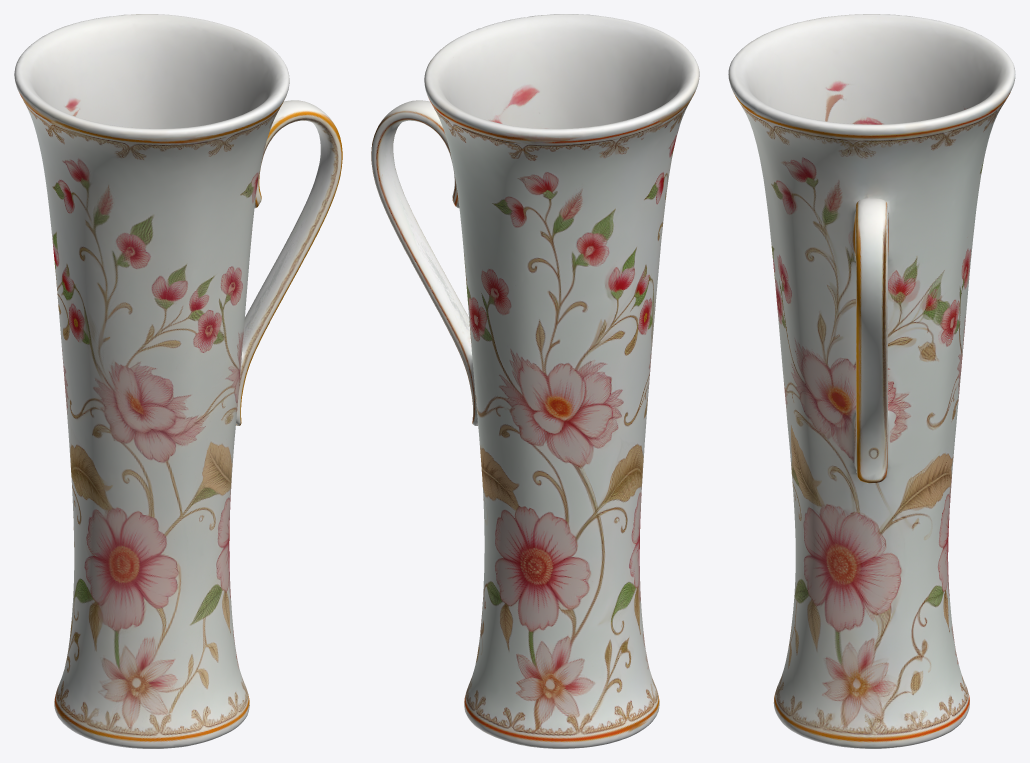
Rendered from cousin_7.glb.
3 renders of one model, left to right at view 1: azimuth 30°, elevation 25°; view 2: azimuth 150°, elevation 25°; view 3: azimuth 270°, elevation 25°, orthographic.
Size of the model in its own units: 0.9524 by 1.91 by 0.7758.
Materials: 1 (1 with a texture image).
